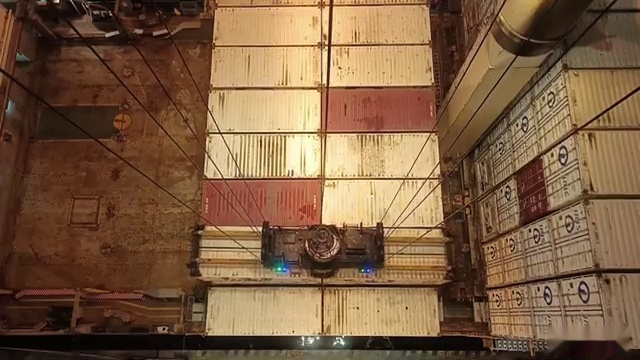container: (187, 221, 455, 283), (197, 179, 446, 230), (204, 289, 443, 339), (202, 133, 439, 180), (207, 43, 434, 89), (205, 92, 436, 132), (208, 4, 432, 44)
guide_mark: (102, 319, 546, 338), (62, 352, 562, 360)
spreader: (185, 218, 471, 286)
target_slot: (184, 220, 470, 287)
